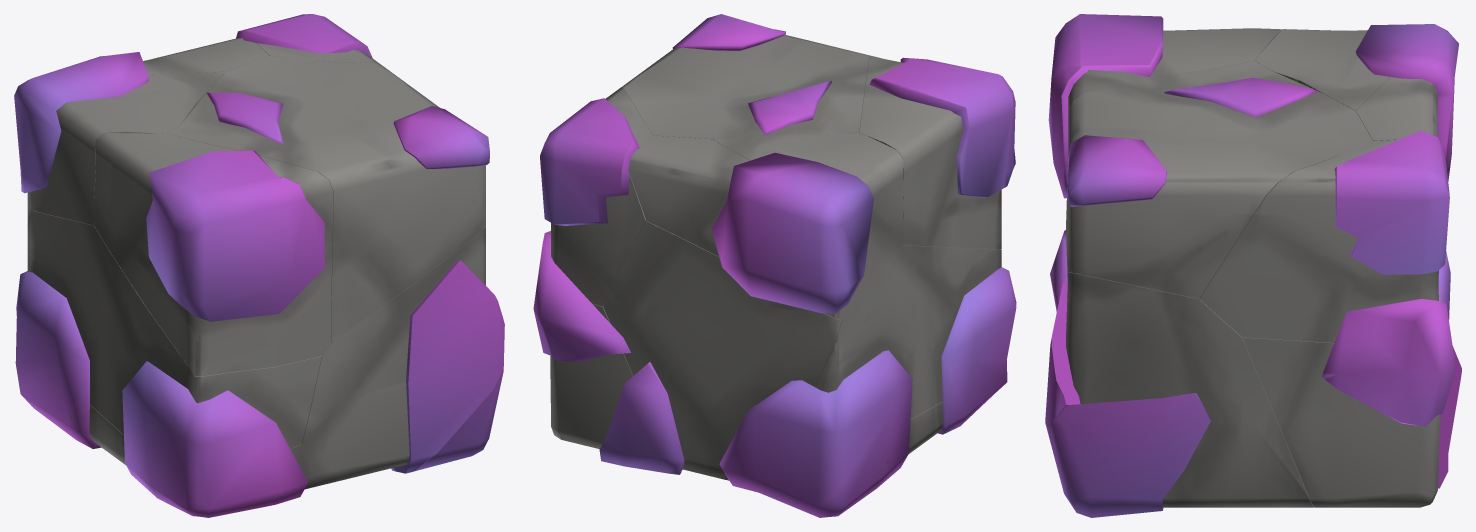
Rendered from Amethyst.fbx.
3 renders of one model, left to right at view 1: azimuth 30°, elevation 25°; view 2: azimuth 150°, elevation 25°; view 3: azimuth 270°, elevation 25°, orthographic. The views are drawn at different scales.
Visible parts, largest first — view 1: Cube_Parts.096, Ore.088, Cube_Parts.092, Cube_Parts.093, Ore.086, Cube_Parts.099, Ore.094, Cube_Parts.095, Ore.091, Ore.092, Ore.090, Ore.089 (+5 smaller); view 2: Cube_Parts.090, Ore.091, Ore.092, Cube_Parts.096, Cube_Parts.093, Cube_Parts.092, Ore.088, Ore.089, Cube_Parts.098, Cube_Parts.095, Ore.086, Cube_Parts.091 (+6 smaller); view 3: Cube_Parts.096, Cube_Parts.099, Cube_Parts.091, Cube_Parts.097, Ore.093, Ore.089, Ore.095, Ore.088, Cube_Parts.095, Ore.092, Ore.090, Cube_Parts.092 (+6 smaller).
Part boxes in pixels (bbox=[...]): Cube_Parts.096: bbox=[171, 55, 485, 342]; Ore.088: bbox=[146, 150, 324, 321]; Cube_Parts.092: bbox=[94, 132, 333, 376]; Cube_Parts.093: bbox=[27, 210, 321, 449]; Ore.086: bbox=[122, 361, 308, 517]; Cube_Parts.099: bbox=[301, 226, 485, 489]; Ore.094: bbox=[393, 260, 504, 473]; Cube_Parts.095: bbox=[27, 71, 225, 225]; Ore.091: bbox=[15, 271, 101, 448]; Ore.092: bbox=[14, 52, 148, 193]; Ore.090: bbox=[393, 106, 489, 168]; Ore.089: bbox=[236, 14, 372, 58]; Cube_Parts.090: bbox=[603, 221, 841, 479]; Ore.091: bbox=[719, 350, 912, 517]; Ore.092: bbox=[711, 152, 873, 313]; Cube_Parts.096: bbox=[622, 35, 869, 139]; Cube_Parts.093: bbox=[815, 245, 1001, 419]; Cube_Parts.092: bbox=[859, 55, 1001, 249]; Ore.088: bbox=[869, 57, 1015, 197]; Ore.089: bbox=[540, 98, 639, 225]; Cube_Parts.098: bbox=[628, 135, 833, 316]; Cube_Parts.095: bbox=[713, 132, 903, 319]; Ore.086: bbox=[938, 267, 1016, 434]; Cube_Parts.091: bbox=[551, 87, 652, 306]; Cube_Parts.096: bbox=[1066, 61, 1372, 299]; Cube_Parts.099: bbox=[1066, 272, 1313, 507]; Cube_Parts.091: bbox=[1200, 139, 1438, 342]; Cube_Parts.097: bbox=[1242, 337, 1440, 507]; Ore.093: bbox=[1049, 393, 1210, 517]; Ore.089: bbox=[1334, 130, 1449, 274]; Ore.095: bbox=[1321, 299, 1455, 426]; Ore.088: bbox=[1048, 14, 1163, 198]; Cube_Parts.095: bbox=[1254, 29, 1390, 110]; Ore.092: bbox=[1355, 24, 1458, 180]; Ore.090: bbox=[1067, 135, 1166, 206]; Cube_Parts.092: bbox=[1068, 28, 1281, 112].
Bounding box in the file's own units: 219 × 216 × 226.
